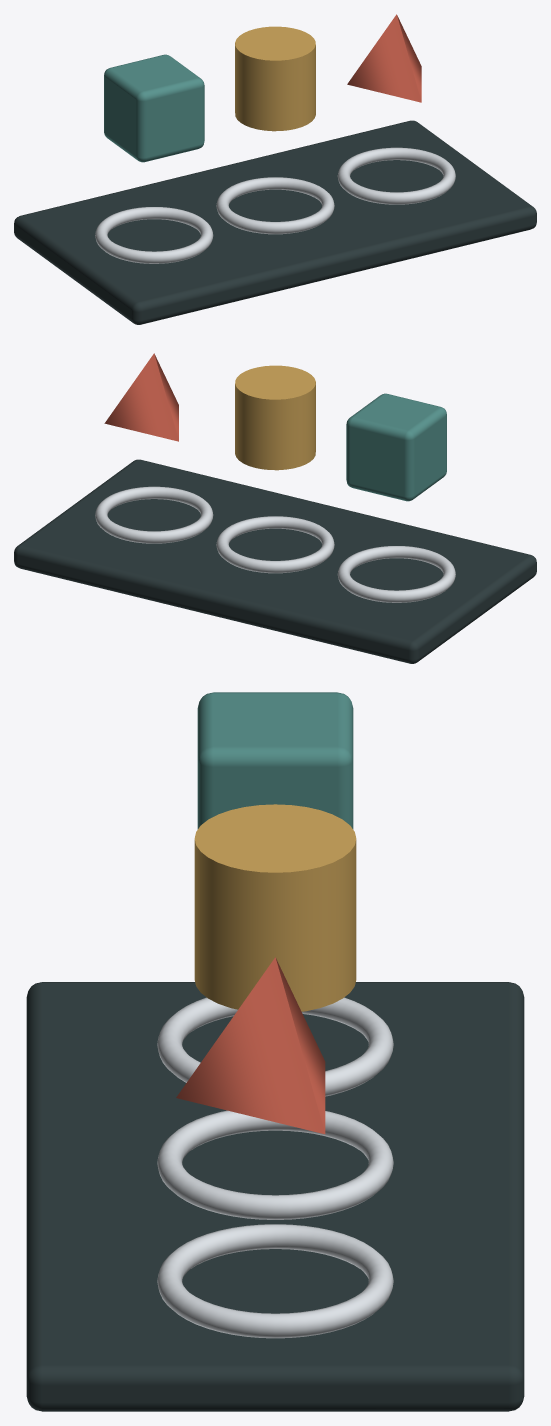
Rendered from assembly.glb.
The picture shows the model from 3 angles, top to bottom: view 1: azimuth 30°, elevation 25°; view 2: azimuth 150°, elevation 25°; view 3: azimuth 270°, elevation 25°; orthographic projection. The views are drawn at different scales.
Visible parts, largest first — view 1: assembly; view 2: assembly; view 3: assembly.
Boxes of the visible parts, <box> form: assembly: <box>14,14,536,324</box>; assembly: <box>14,353,536,663</box>; assembly: <box>26,692,524,1411</box>.
Size of the model in its own units: 1.5 by 0.675 by 0.8.
